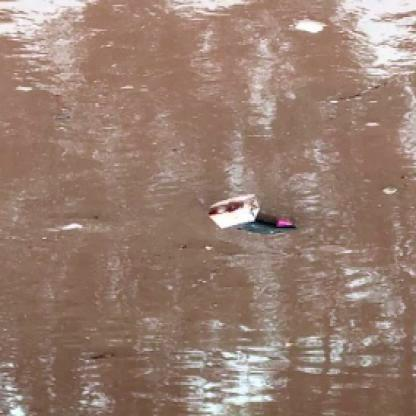Trash: (207, 198, 262, 230), (235, 220, 302, 240)
